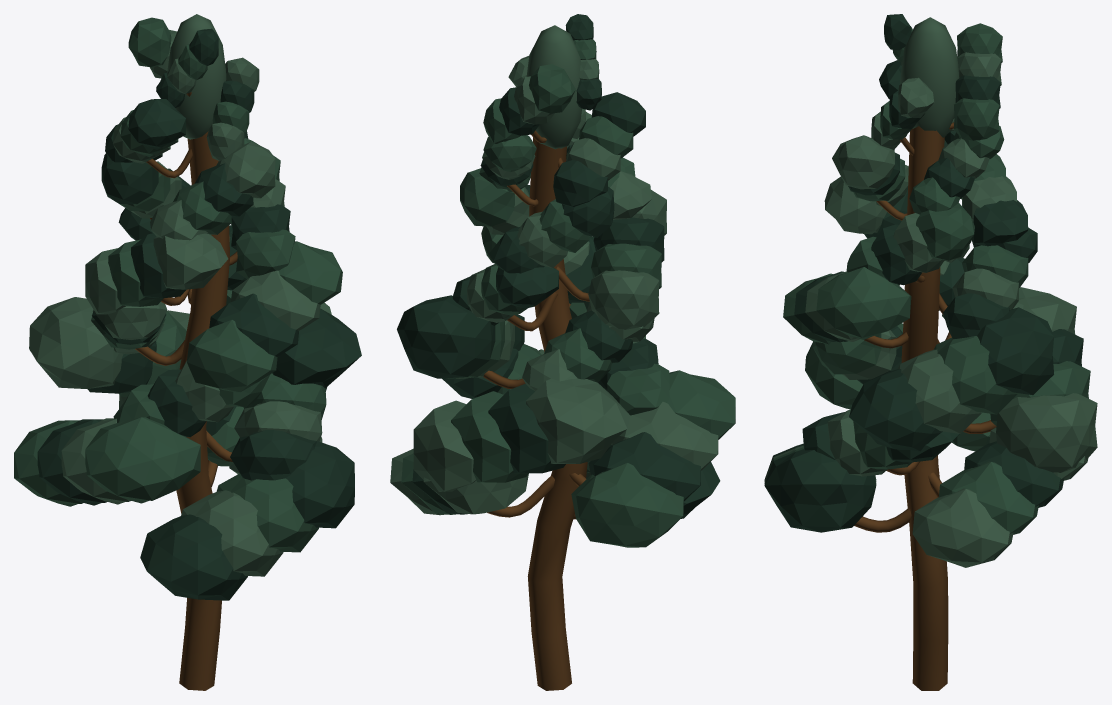
The model's file is mia-pine.glb.
3 views of the same model, side by side, from view 1: azimuth 30°, elevation 25°; view 2: azimuth 150°, elevation 25°; view 3: azimuth 270°, elevation 25° (orthographic).
Parts seen in each view (by area): view 1: Body_pine-deep, Body_pine-olive, Body_pine-mid, Body_wood; view 2: Body_pine-olive, Body_pine-mid, Body_pine-deep, Body_wood; view 3: Body_pine-olive, Body_pine-deep, Body_pine-mid, Body_wood.
Boxes of the visible parts, x1,y1,x2,y2 form: Body_pine-deep: (37,28,361,600); Body_pine-olive: (29,14,331,576); Body_pine-mid: (14,17,342,552); Body_wood: (135,92,237,690); Body_pine-olive: (390,25,718,515); Body_pine-mid: (401,39,735,547); Body_pine-deep: (397,14,720,518); Body_wood: (483,130,589,690); Body_pine-olive: (764,17,1097,567); Body_pine-deep: (764,14,1083,532); Body_pine-mid: (764,23,1090,534); Body_wood: (854,122,996,690).
Size of the model in its own units: 2.01 by 4.39 by 1.98.
